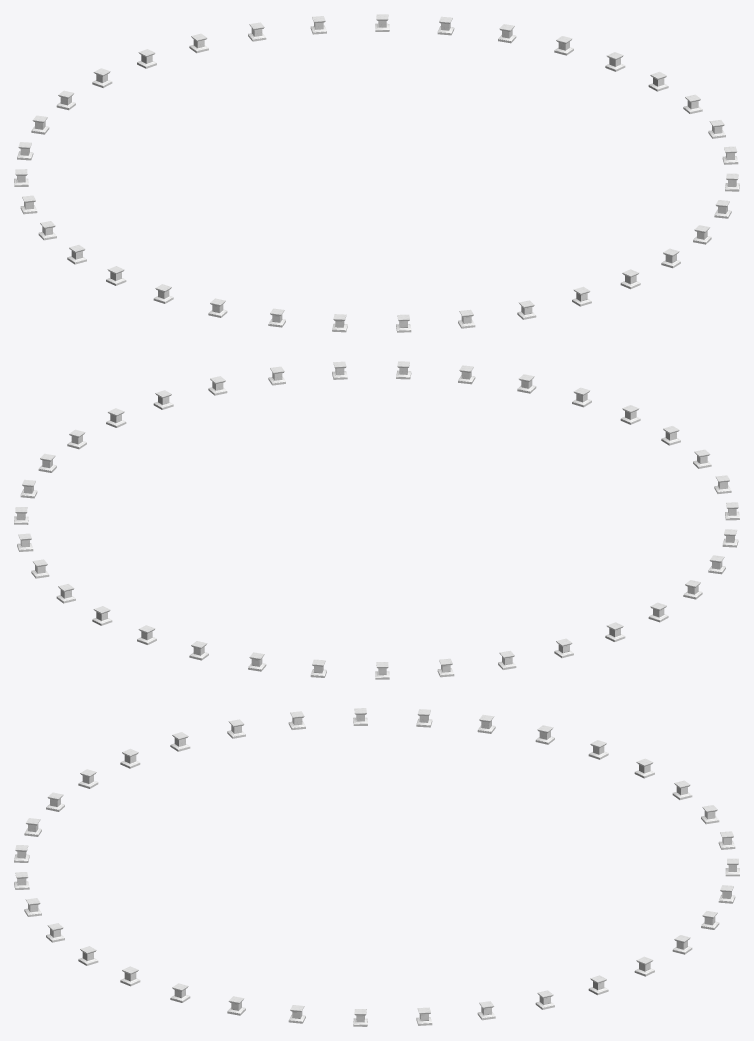
3 renders of one model, top to bottom at view 1: azimuth 30°, elevation 25°; view 2: azimuth 150°, elevation 25°; view 3: azimuth 270°, elevation 25°, orthographic.
Visible parts, largest first — view 1: 立方体; view 2: 立方体; view 3: 立方体.
Boxes of the visible parts, x1=… form: 立方体: x1=14, y1=14, x2=739, y2=332; 立方体: x1=14, y1=361, x2=739, y2=679; 立方体: x1=14, y1=708, x2=739, y2=1026.
Size of the model in its own units: 102 by 1.9 by 102.
1 material, 1 textured.
